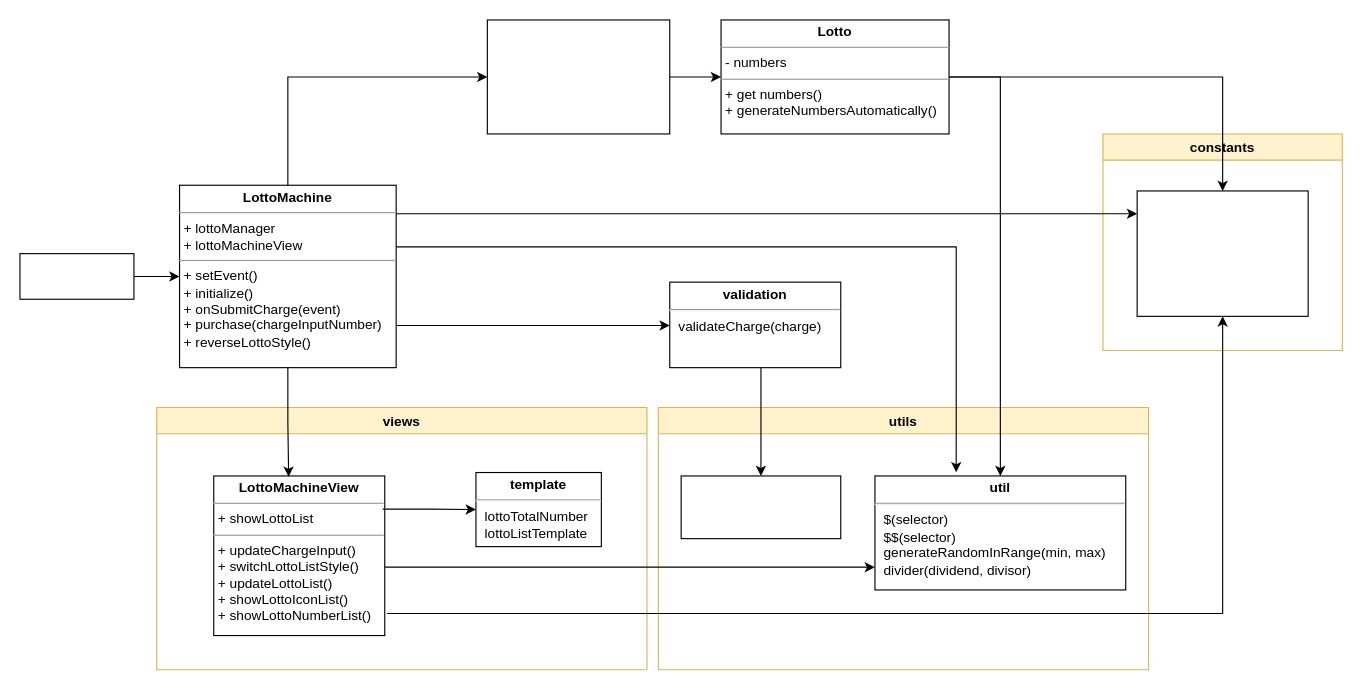
Image size: 1362x690. Some labels were removed from this diagram. Here are the shapes that lost their labels. From the top down, the box of each, then its label:
(486, 19, 670, 134): LottoManager - lottos + get lottos() + generateNewLottos(count)
(1136, 190, 1308, 316): constants MIN_CHARGE_INPUT LOTTO_PRICE LOTTO_NUMBER ERROR_MESSAGE SELECTOR
(19, 253, 134, 299): index.js
(680, 475, 841, 539): ValidationError
